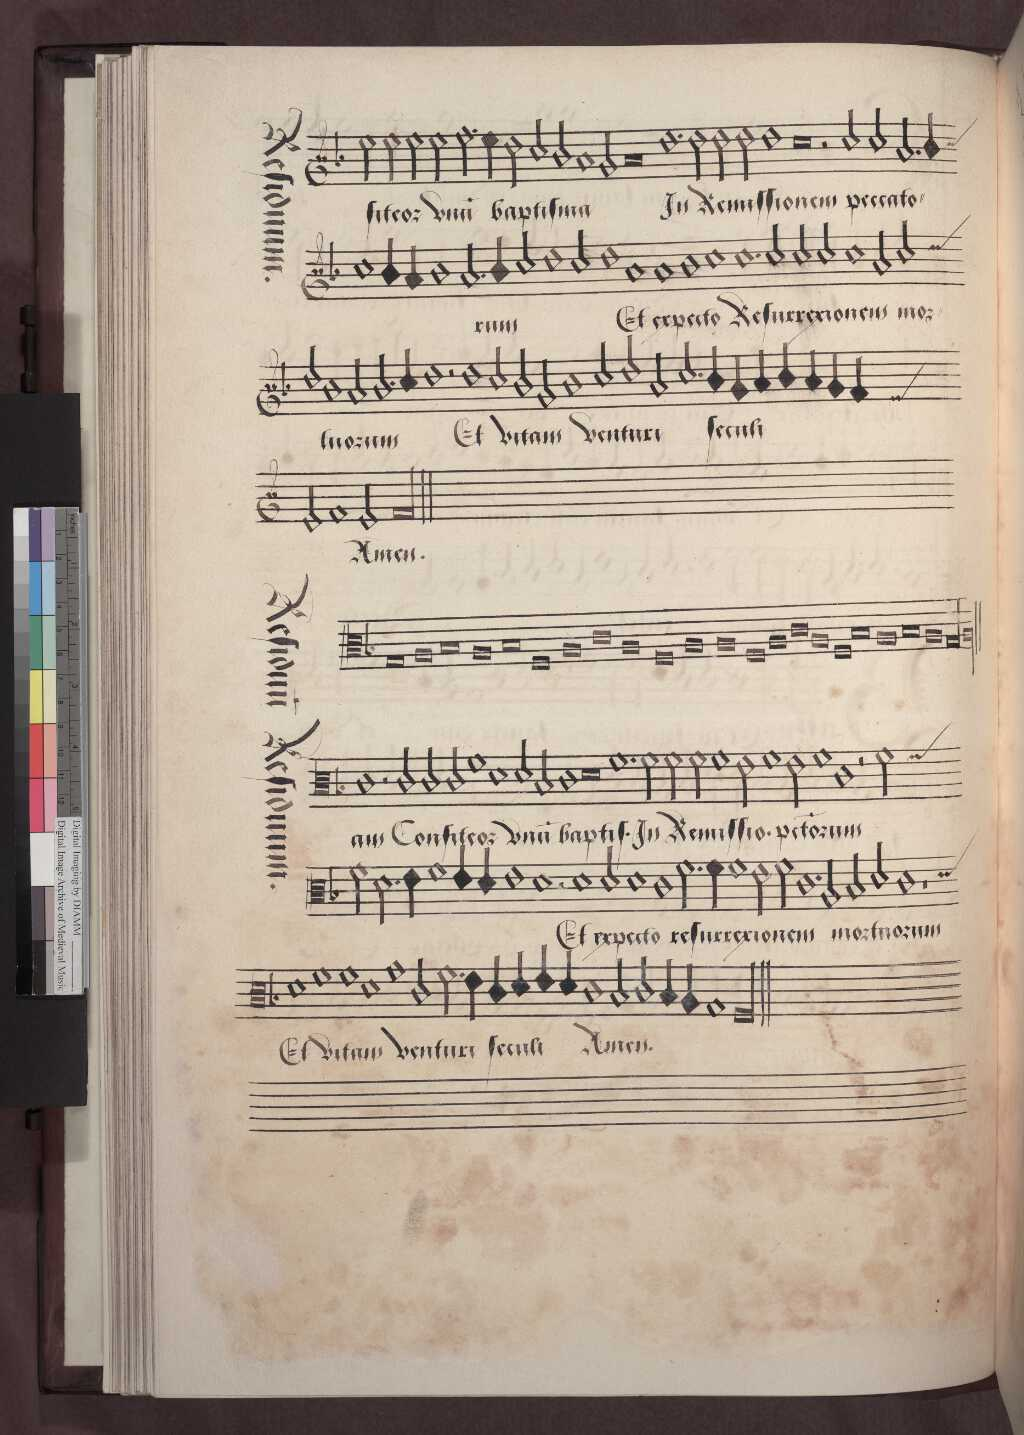custos_5: (922, 219, 953, 265)
flat_7: (322, 237, 342, 288)
g clef_9: (297, 248, 330, 314)
minim_6: (569, 222, 594, 284), (514, 221, 537, 285), (764, 216, 788, 273), (815, 213, 838, 271), (894, 211, 917, 271), (791, 217, 815, 271)
minim_8: (457, 233, 480, 296), (871, 221, 894, 284)
point: (749, 245, 765, 265), (475, 265, 490, 285)
semibreve_5: (540, 236, 566, 280), (597, 235, 623, 278)
semibreve_6: (702, 237, 729, 279), (350, 247, 378, 288), (842, 232, 869, 273), (730, 237, 755, 279)
semibreve_7: (426, 250, 454, 294), (678, 242, 703, 287)
semibreve_8: (622, 250, 648, 293), (651, 249, 675, 291)
semiminim_7: (380, 230, 403, 294), (491, 228, 511, 293)
semiminim_8: (405, 235, 426, 299)
